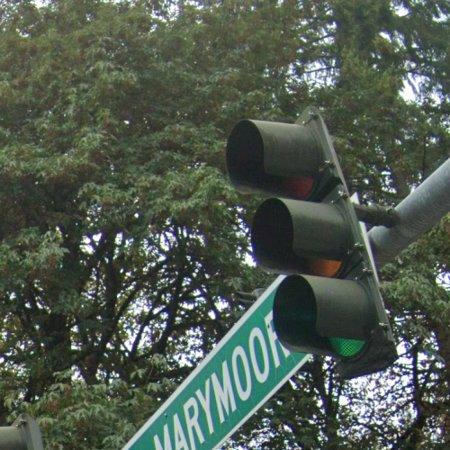traffic lights: (228, 109, 398, 378)
